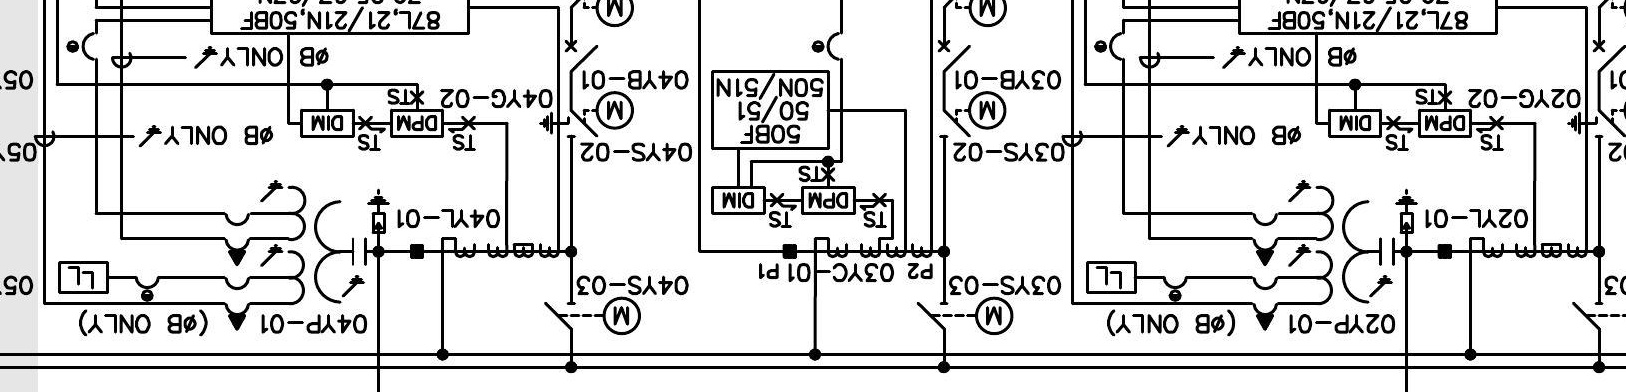115_1way_ds_w_motor: (916, 296, 1014, 337), (543, 296, 642, 336), (938, 90, 1008, 139)
115_3ways_ds_w_motor: (538, 90, 635, 139)
115_breaker: (937, 39, 972, 73), (564, 39, 598, 73)
115_cvt_1p: (222, 178, 368, 332), (1251, 178, 1396, 332)
115_la: (366, 188, 391, 234), (1395, 188, 1419, 234)
DIM: (710, 186, 766, 216), (1327, 109, 1382, 138), (300, 109, 355, 138)
DPM: (801, 186, 857, 216), (1418, 109, 1473, 138), (390, 109, 444, 138)
LL: (1086, 260, 1138, 295), (57, 260, 109, 295)
